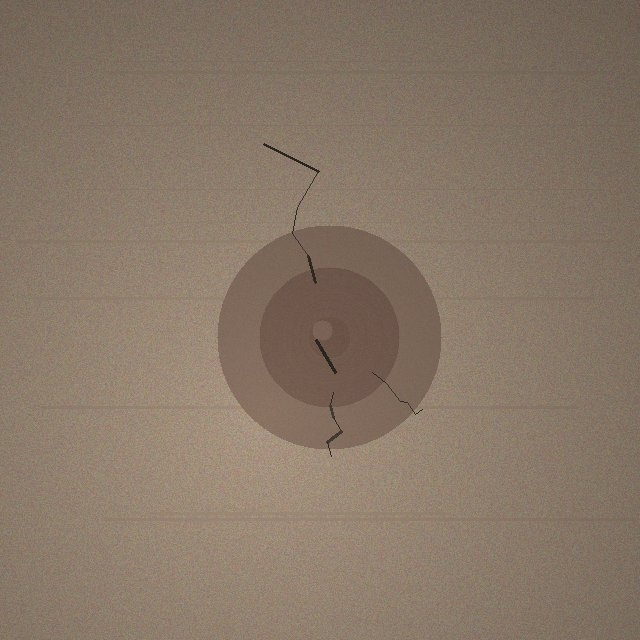crack: (217, 225, 441, 449)
